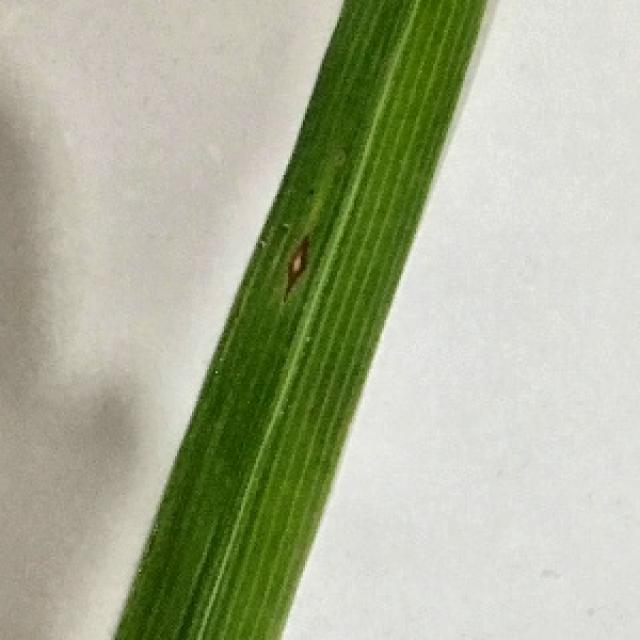Leaf_Blast: (277, 228, 314, 312)
